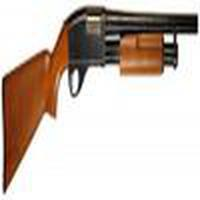gun: (3, 6, 198, 185)
